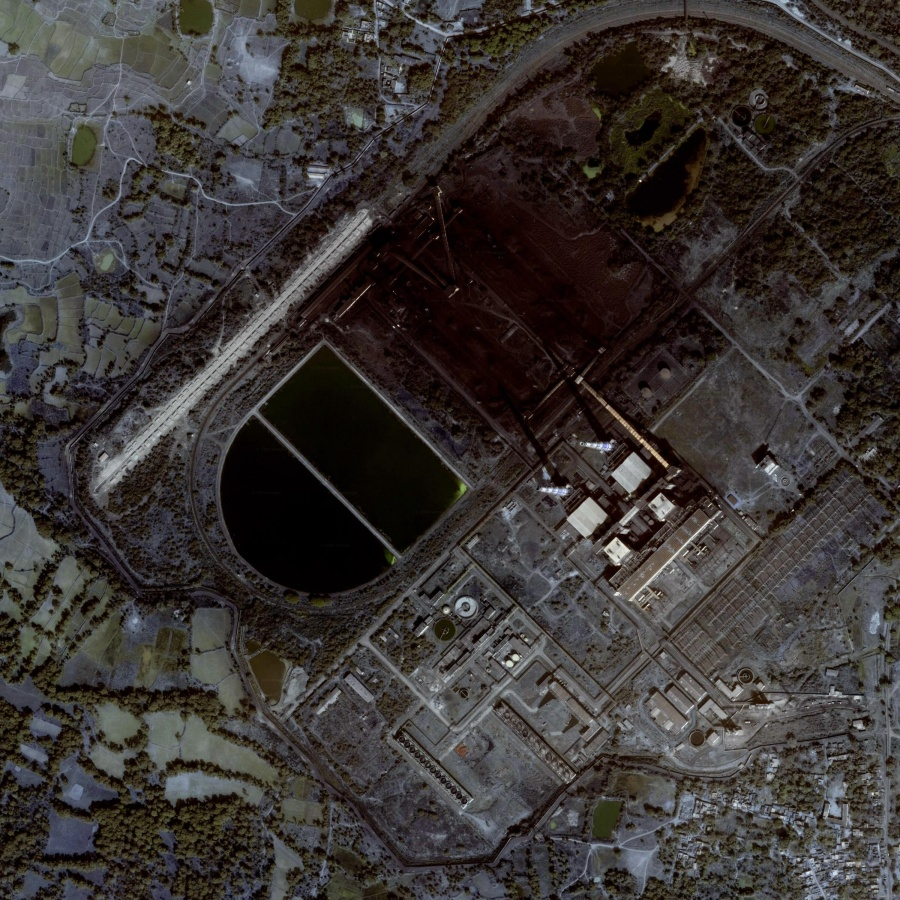PowerPlant: (203, 113, 714, 625)
